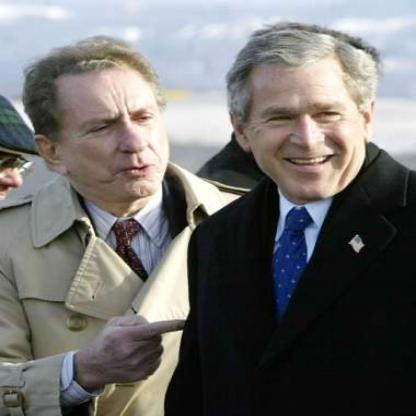face: (247, 38, 368, 203), (52, 52, 172, 206)
